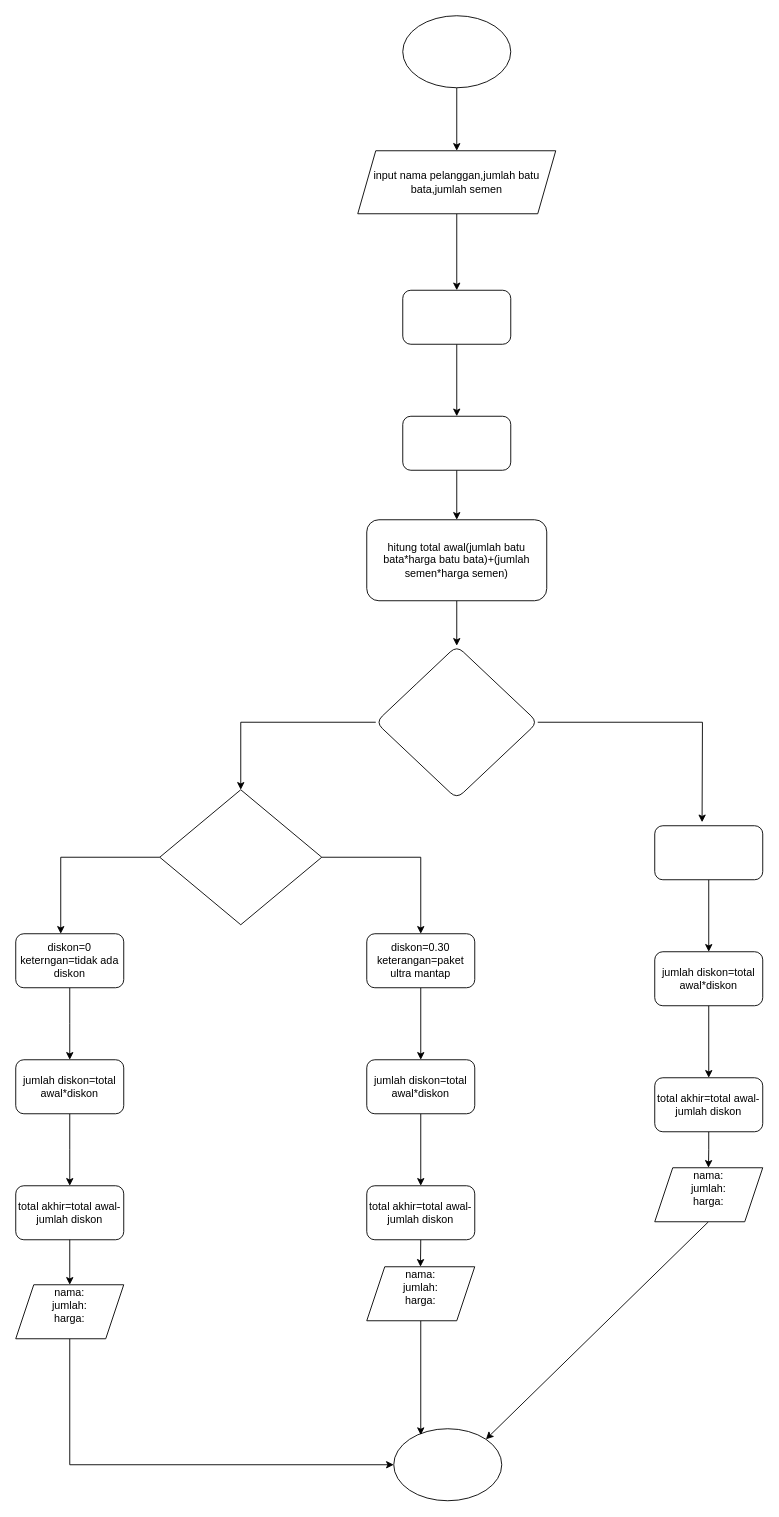
Image size: 779x1517. Some labels were removed from this diagram. Here are the shapes that lost their labels. From the top down, the box of each, then its label:
(402, 15, 511, 88): start
(402, 289, 511, 344): set harga batu bata=100
(402, 415, 511, 470): set harga semen=100000
(375, 645, 538, 799): jumlah batu bata==500 dan jumlah semen==5
(159, 789, 322, 925): jumlah batu bata==2000 dan jumlah semen==16
(654, 825, 763, 880): diskon=0.15 keterangan=paket hemat 15%
(393, 1428, 502, 1501): end
